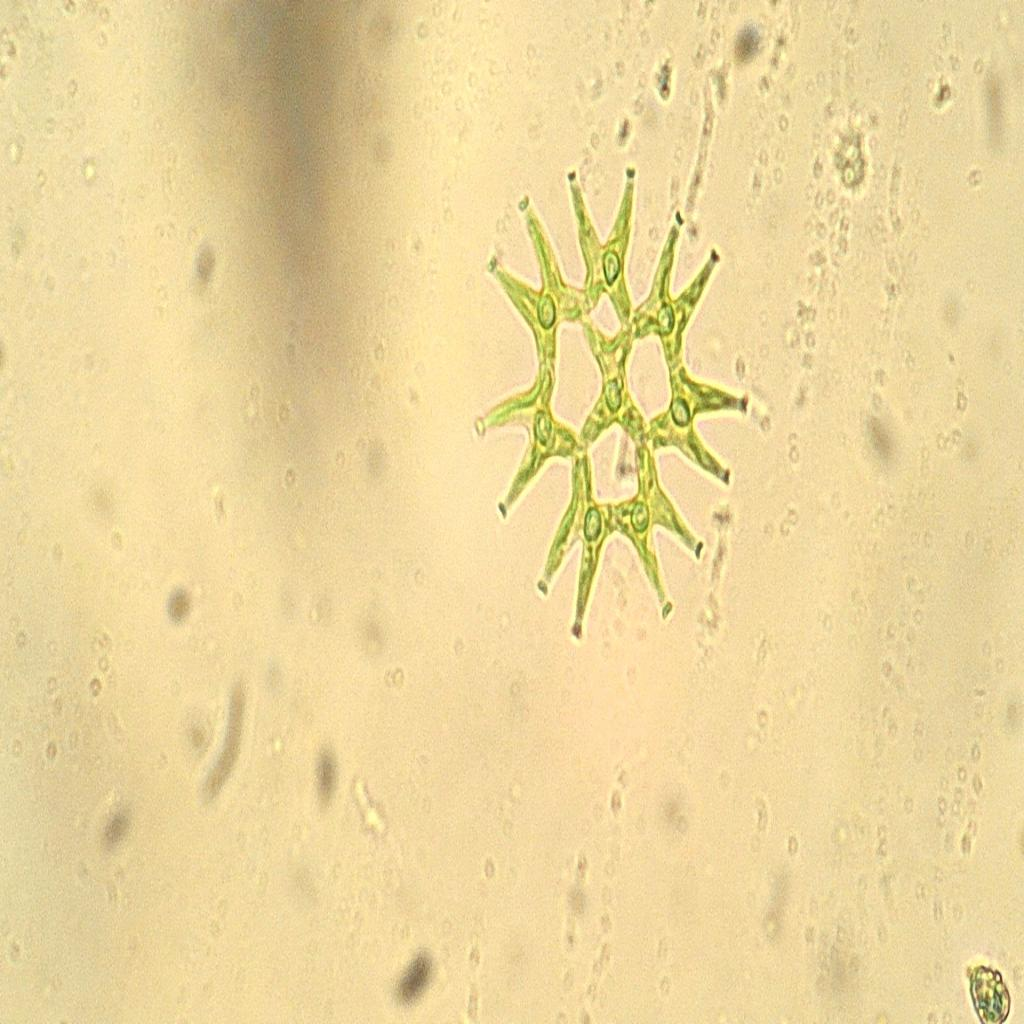Pediastrum_CTH: (463, 143, 759, 657)
